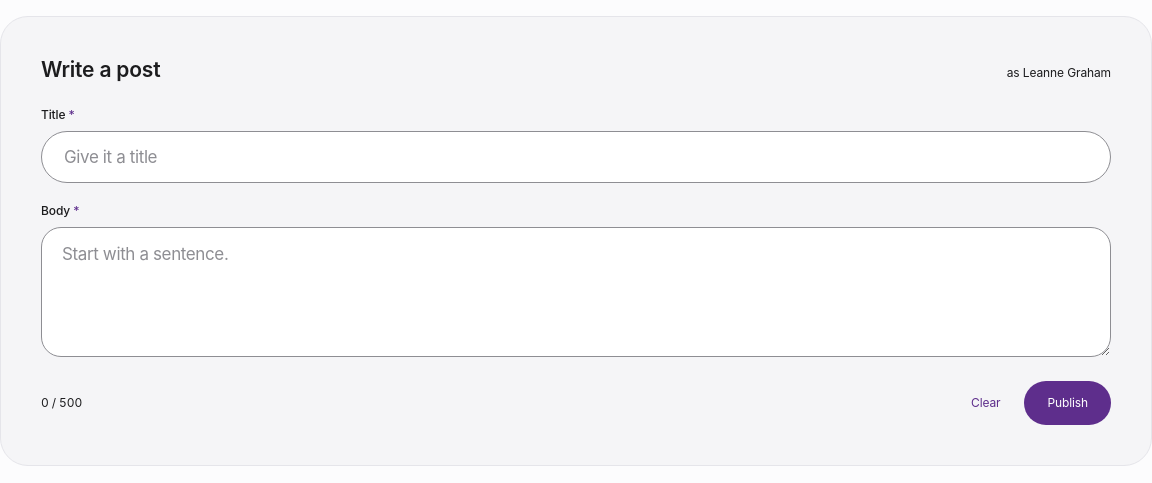
Test: PostComposer › publishes trimmed values and resets the form
In the field labelled "Title": (576, 157) [41,131,1111,183], type "  A local post  "
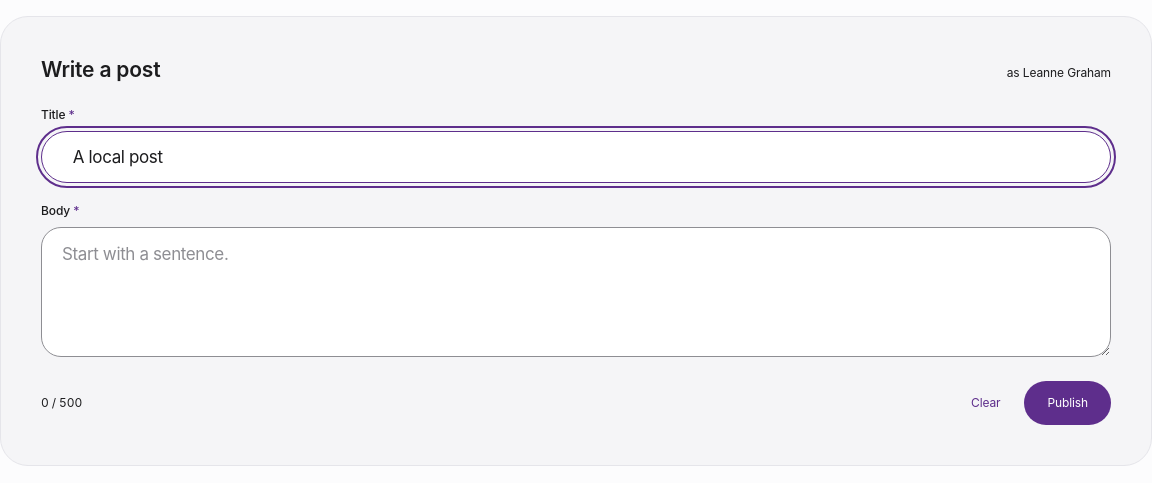
In the text box labelled "Body": (576, 292) [41,227,1111,357], type "  A body long enough  "
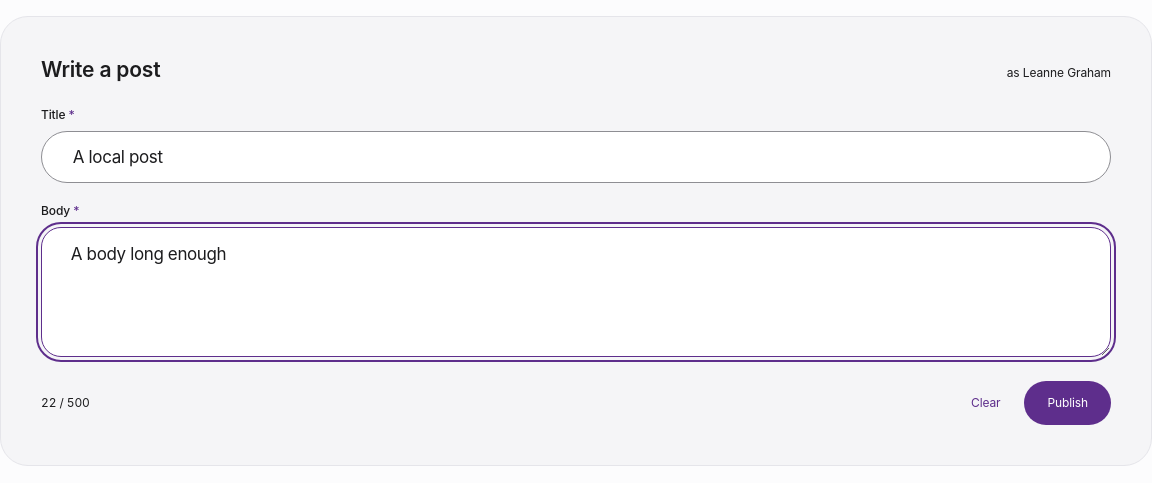
Click the button "Publish": (1068, 403) [1024,381,1111,425]
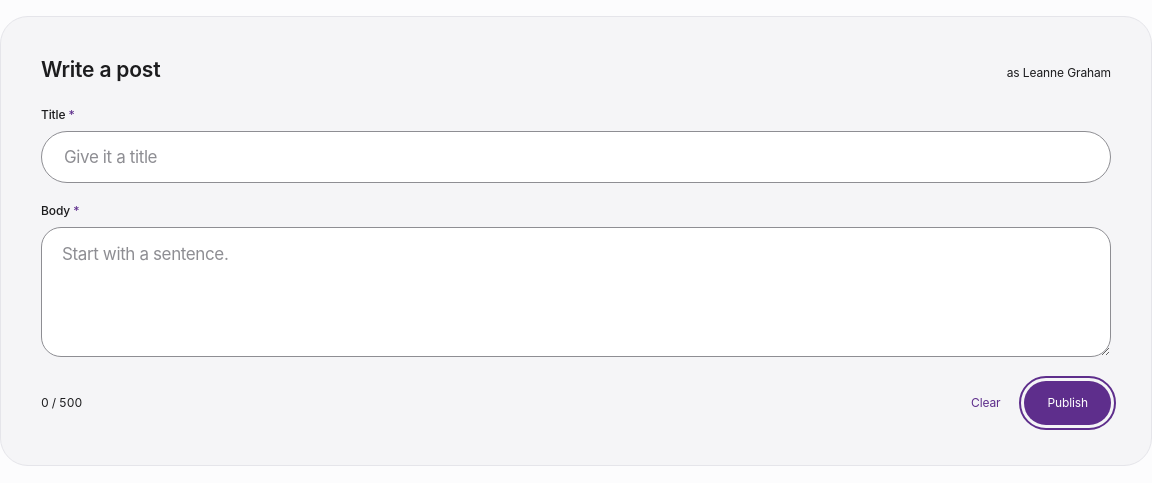
Result: the field labelled "Title" is empty at [41,131,1111,183]
Result: the text box labelled "Body" is empty at [41,227,1111,357]
Result: the text "0 / 500" is shown at [41,397,82,409]
